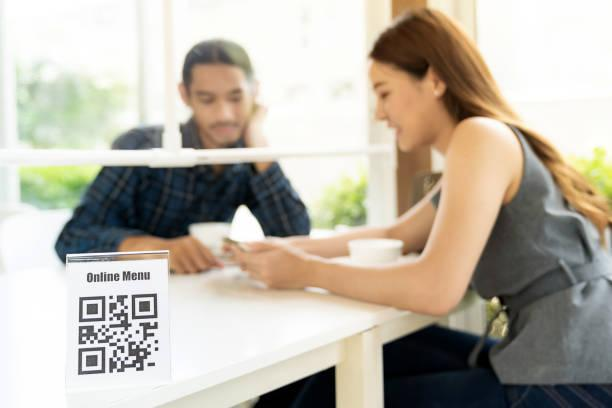Finder pattern: (75, 344, 109, 377), (129, 291, 161, 323), (76, 293, 108, 324)
